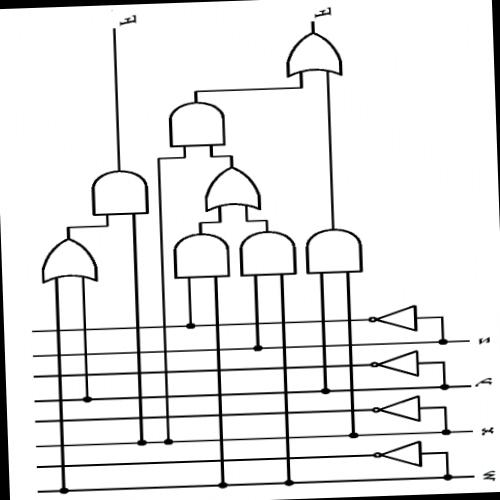and: (299, 224, 366, 276), (86, 166, 152, 218), (167, 229, 233, 280), (164, 98, 228, 150), (234, 228, 300, 278)
not: (362, 302, 421, 335), (364, 348, 423, 380), (367, 392, 423, 425), (369, 439, 426, 470)
or: (198, 162, 266, 214), (34, 234, 102, 286), (279, 28, 346, 80)
